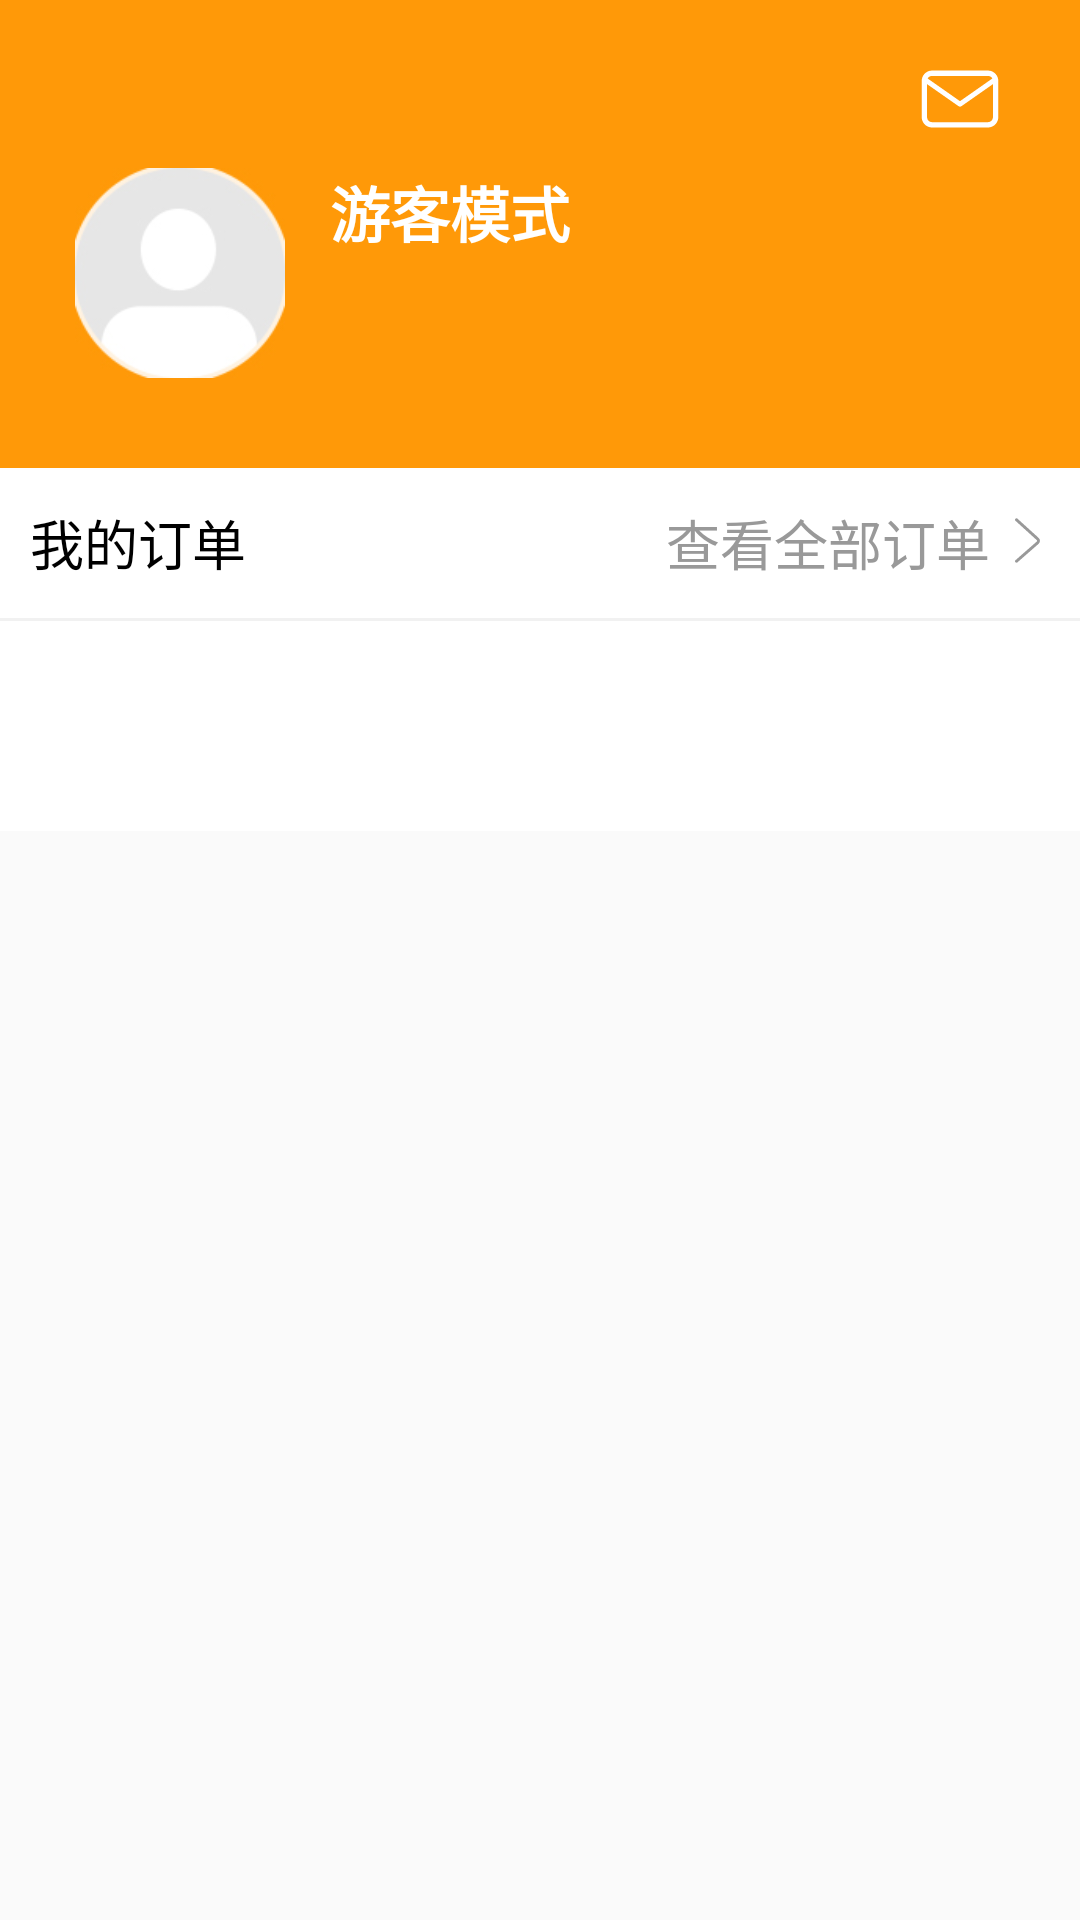

Screen size 1080px x 1920px. Icon name, then its box in pixels as (x1, y1, x2, y2):
mine message: (921, 70, 999, 128)
order right: (1015, 518, 1040, 563)
people: (75, 168, 285, 378)
